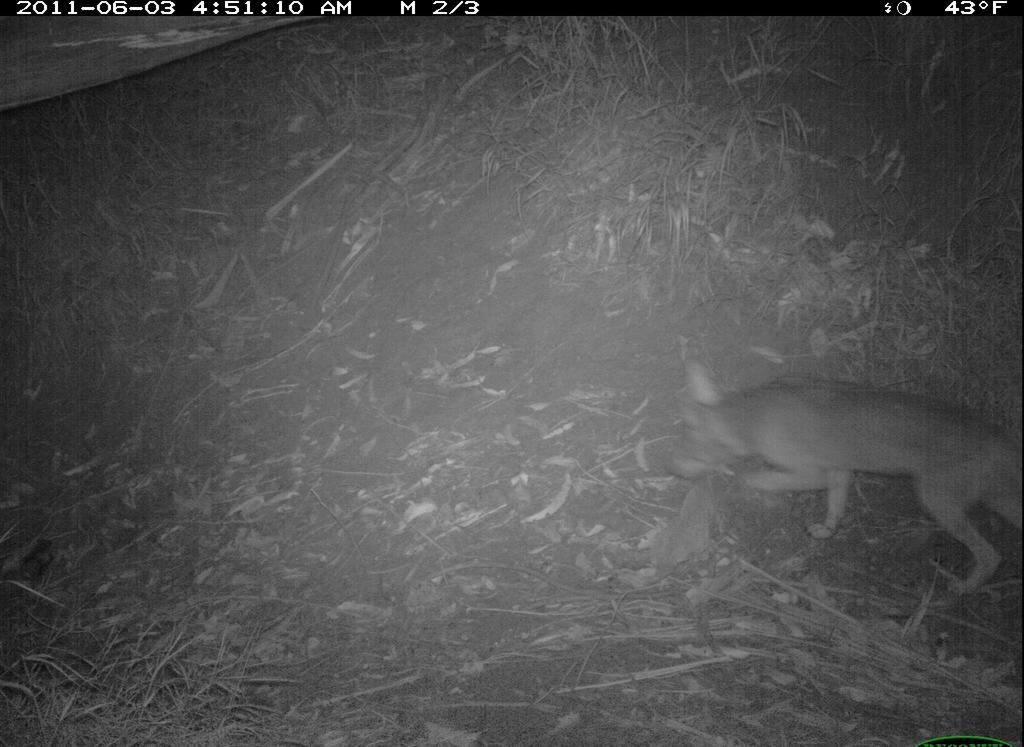coyote: (657, 347, 1024, 610)
